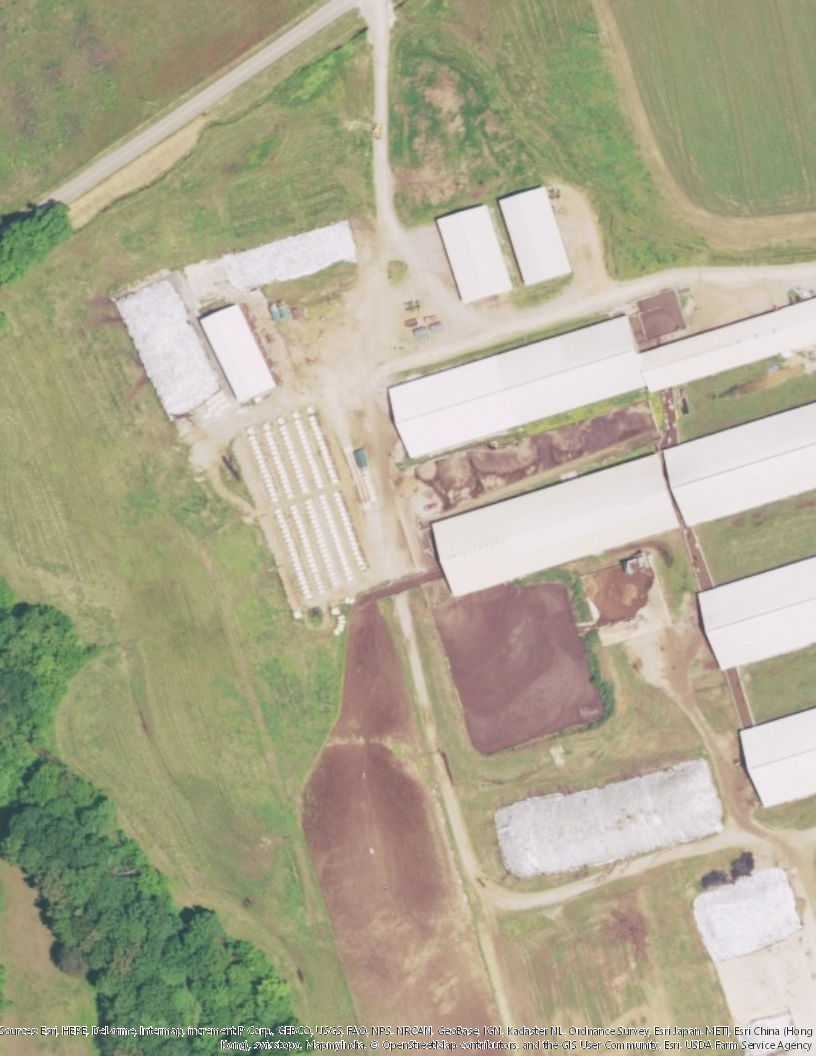cafo: (382, 307, 654, 464), (430, 441, 680, 606), (664, 395, 816, 534), (637, 293, 816, 398), (692, 545, 816, 675), (725, 695, 816, 815), (492, 177, 577, 289), (434, 195, 516, 307), (203, 294, 282, 408)
